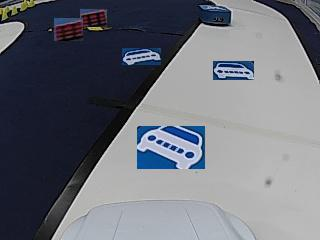prop: (199, 5, 230, 26)
